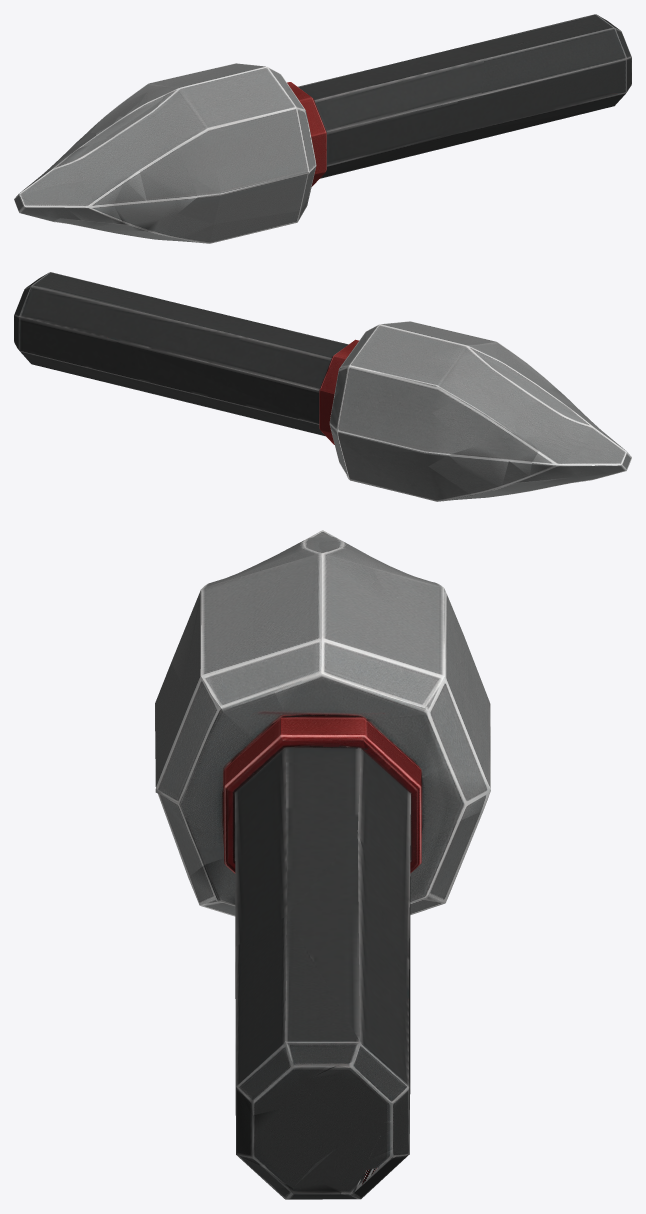
Rendered from puncher_tip.glb.
3 renders of one model, top to bottom at view 1: azimuth 30°, elevation 25°; view 2: azimuth 150°, elevation 25°; view 3: azimuth 270°, elevation 25°, orthographic. The views are drawn at different scales.
Parts seen in each view (by area): view 1: output_unwrapped; view 2: output_unwrapped; view 3: output_unwrapped.
Boxes of the visible parts, bbox=[...] form: output_unwrapped: bbox=[14, 14, 631, 243]; output_unwrapped: bbox=[14, 272, 631, 501]; output_unwrapped: bbox=[155, 530, 490, 1199].
Bounding box in the file's own units: 1.9 × 0.4667 × 0.4654.
1 material, 1 textured.
